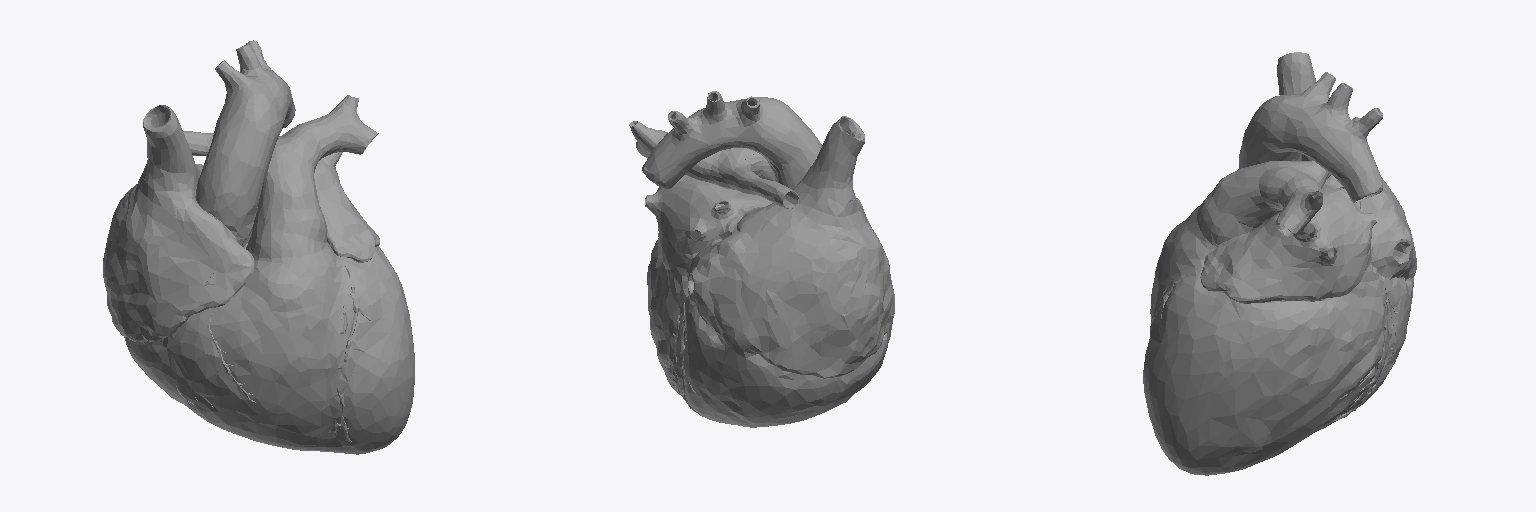
The model's file is organs_heart.obj.
3 renders of one model, left to right at view 1: azimuth 30°, elevation 25°; view 2: azimuth 150°, elevation 25°; view 3: azimuth 270°, elevation 25°, orthographic.
Visible parts, largest first — view 1: Heart_polySurface1.003; view 2: Heart_polySurface1.003; view 3: Heart_polySurface1.003.
Part boxes in pixels (x1,y1,x2,y2): Heart_polySurface1.003: (103, 40, 414, 454); Heart_polySurface1.003: (629, 91, 894, 427); Heart_polySurface1.003: (1143, 52, 1416, 475).
Bounding box in the file's own units: 9.32 × 12.84 × 8.75.